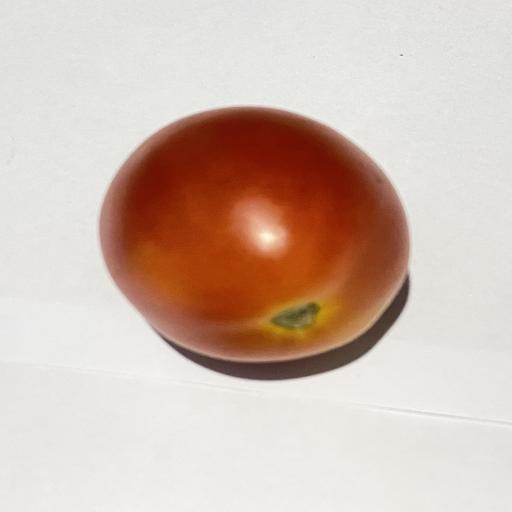ripe: (100, 107, 409, 362)
